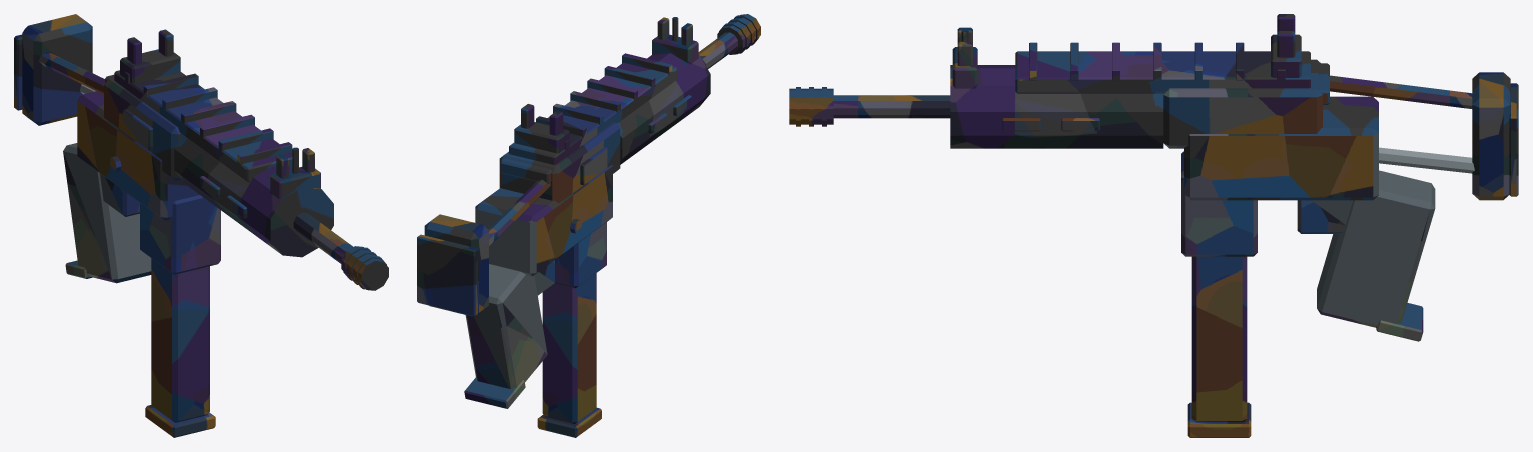
The model's file is MPX_HardenedSteel.glb.
The picture shows the model from 3 angles, left to right: view 1: azimuth 30°, elevation 25°; view 2: azimuth 150°, elevation 25°; view 3: azimuth 270°, elevation 25°; orthographic projection. The views are drawn at different scales.
Visible parts, largest first — view 1: StaticVisual; view 2: StaticVisual; view 3: StaticVisual.
Part boxes in pixels (x1,y1,x2,y2): StaticVisual: (14,14,388,437); StaticVisual: (417,14,760,437); StaticVisual: (789,14,1518,437).
Bounding box in the file's own units: 0.1595 × 0.7525 × 1.23.
4 materials, 1 textured.
